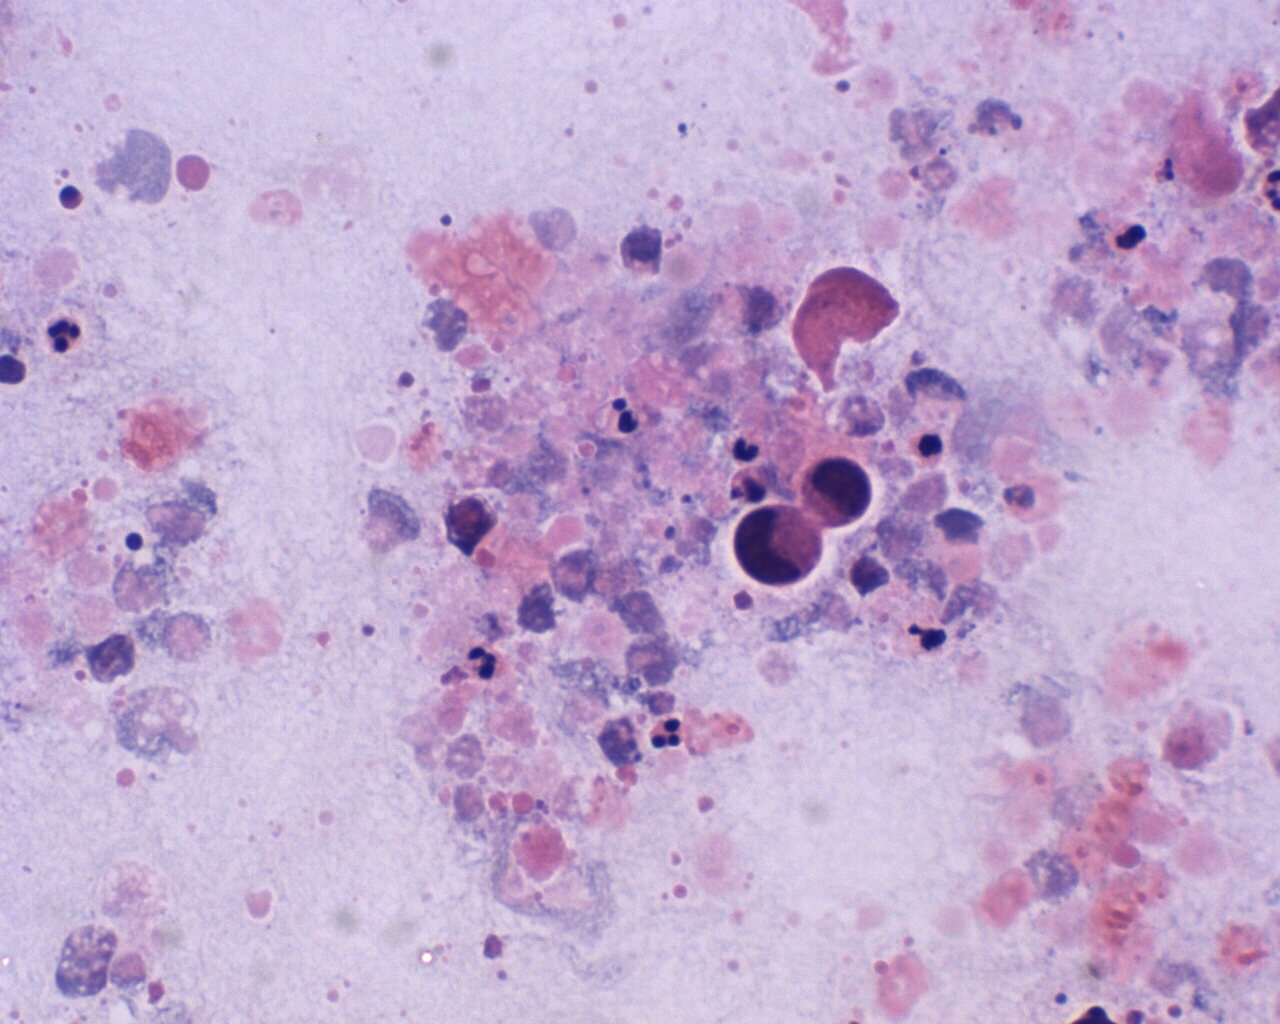ab: (728, 497, 823, 591), (802, 453, 872, 528)
neutro: (462, 638, 510, 683), (46, 312, 90, 360), (645, 715, 695, 752)
